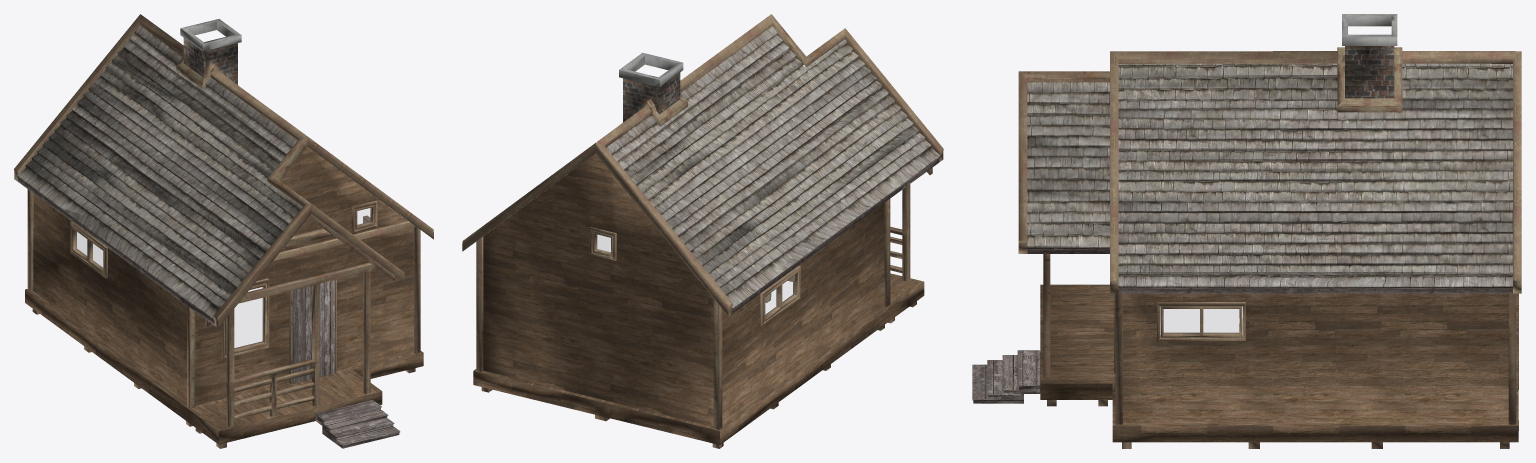
File: beach_house.glb
3 renders of one model, left to right at view 1: azimuth 30°, elevation 25°; view 2: azimuth 150°, elevation 25°; view 3: azimuth 270°, elevation 25°, orthographic. The views are drawn at different scales.
Parts seen in each view (by area): view 1: building_001.009_Material.001_0, building_001.011_Material_0, Cube.004_Material.003_0, building_001.007_Material.012_0, Cube.028_Material.004_0, building_001.012_Material.007_0, building_001.012_Material.008_0; view 2: building_001.011_Material_0, building_001.009_Material.001_0, Cube.004_Material.003_0, building_001.012_Material.007_0, building_001.012_Material.008_0, building_001.007_Material.012_0, Cube.028_Material.004_0; view 3: building_001.009_Material.001_0, building_001.011_Material_0, Cube.004_Material.003_0, building_001.007_Material.012_0, building_001.012_Material.007_0, Cube.028_Material.004_0, building_001.012_Material.008_0.
Boxes of the visible parts, left/top/right/bottom form: building_001.009_Material.001_0: left=17, top=25, right=301, bottom=320; building_001.011_Material_0: left=25, top=75, right=423, bottom=444; Cube.004_Material.003_0: left=14, top=14, right=433, bottom=448; building_001.007_Material.012_0: left=18, top=177, right=400, bottom=448; Cube.028_Material.004_0: left=75, top=208, right=371, bottom=348; building_001.012_Material.007_0: left=183, top=38, right=237, bottom=84; building_001.012_Material.008_0: left=180, top=19, right=241, bottom=51; building_001.011_Material_0: left=473, top=112, right=924, bottom=444; building_001.009_Material.001_0: left=606, top=26, right=940, bottom=308; Cube.004_Material.003_0: left=462, top=14, right=943, bottom=448; building_001.012_Material.007_0: left=623, top=72, right=680, bottom=122; building_001.012_Material.008_0: left=619, top=52, right=683, bottom=87; building_001.007_Material.012_0: left=732, top=157, right=939, bottom=313; Cube.028_Material.004_0: left=596, top=234, right=794, bottom=315; building_001.009_Material.001_0: left=1027, top=63, right=1512, bottom=287; building_001.011_Material_0: left=1040, top=284, right=1518, bottom=442; Cube.004_Material.003_0: left=1018, top=47, right=1521, bottom=448; building_001.007_Material.012_0: left=972, top=249, right=1512, bottom=403; building_001.012_Material.007_0: left=1345, top=46, right=1394, bottom=98; Cube.028_Material.004_0: left=1164, top=309, right=1239, bottom=333; building_001.012_Material.008_0: left=1342, top=14, right=1397, bottom=45.
Bounding box in the file's own units: 8.4 × 9.2 × 12.69.
Materials: 7 (6 with a texture image).
